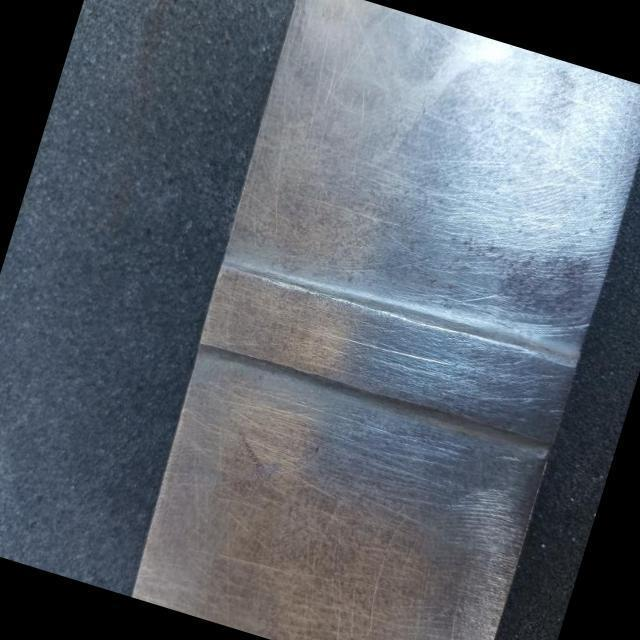defect: (321, 329, 451, 364)
